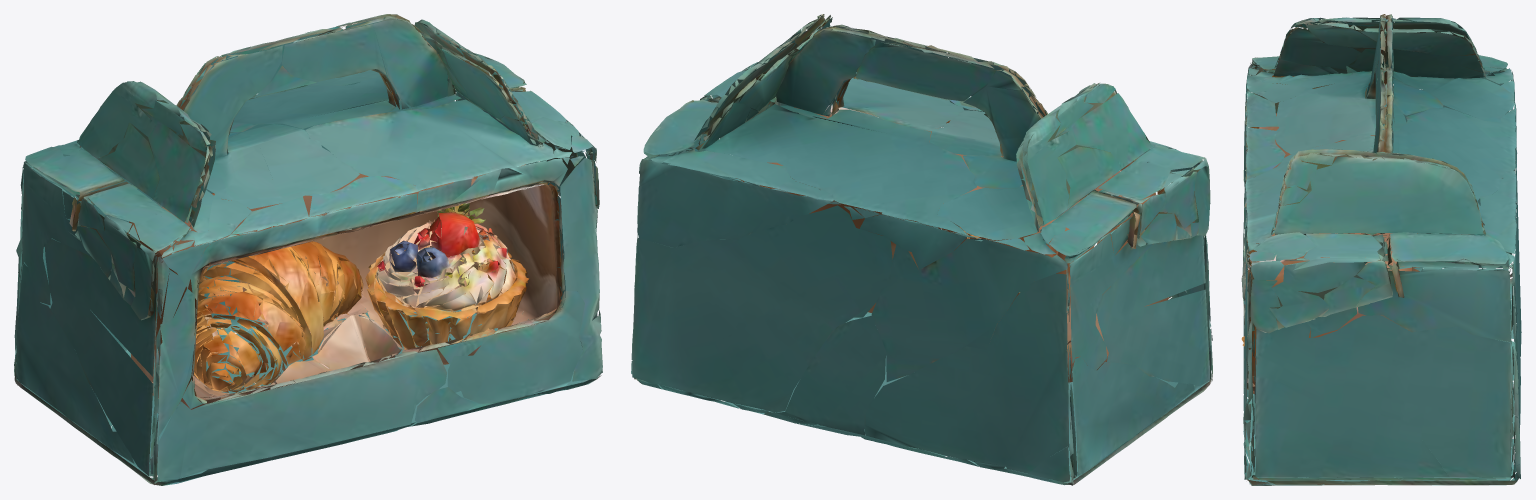
Rendered from base_basic_pbr.glb.
3 renders of one model, left to right at view 1: azimuth 30°, elevation 25°; view 2: azimuth 150°, elevation 25°; view 3: azimuth 270°, elevation 25°, orthographic. The views are drawn at different scales.
Visible parts, largest first — view 1: model; view 2: model; view 3: model.
Part boxes in pixels (x1,y1,x2,y2): model: (14, 14, 602, 485); model: (631, 14, 1212, 485); model: (1241, 14, 1521, 485).
Bounding box in the file's own units: 1.91 × 1.38 × 1.05.
1 material, 1 textured.
